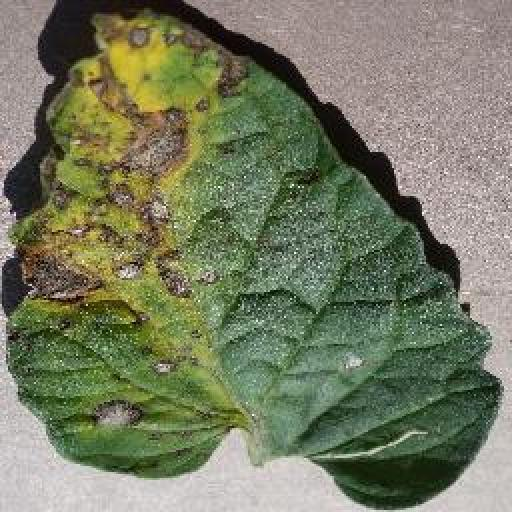Early Blight: (6, 12, 500, 512)
